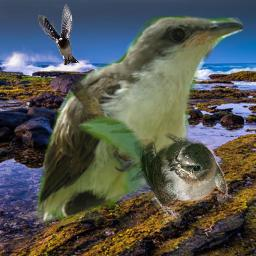Cuckoo: (33, 14, 243, 226)
Swallow: (128, 133, 228, 223), (38, 4, 80, 65)
